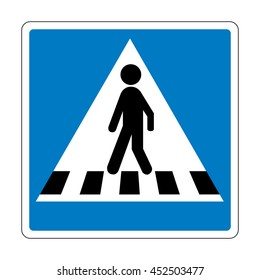pedestrian: (22, 26, 237, 238)
